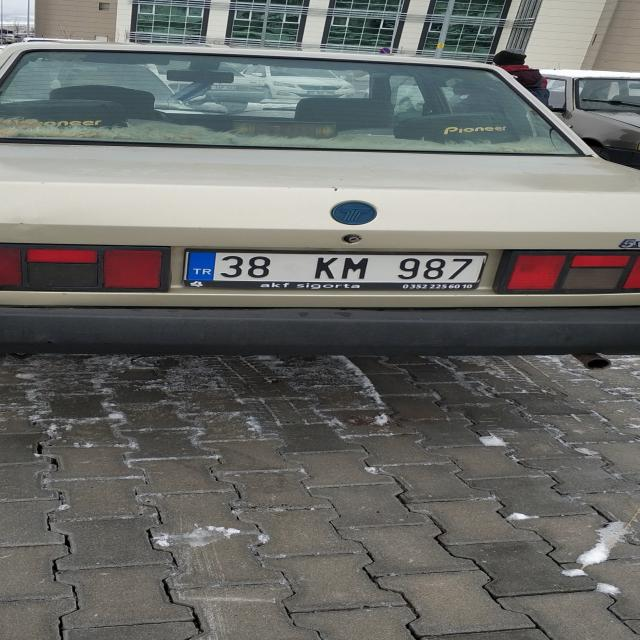plate: (185, 251, 487, 283)
